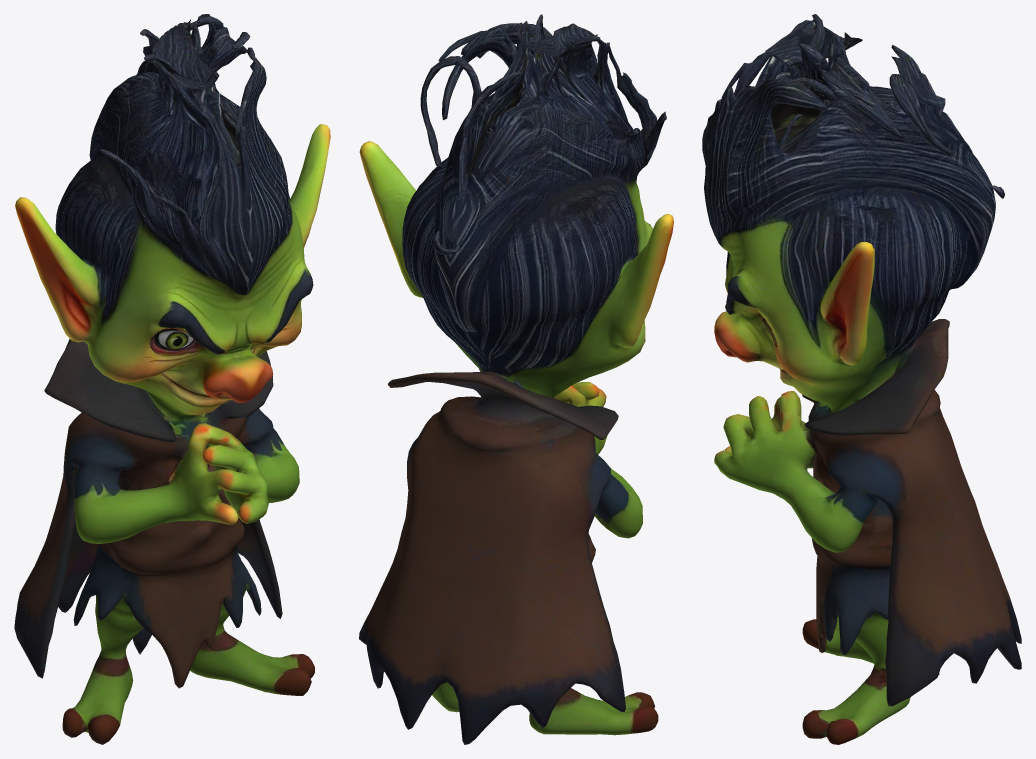
The model's file is gremlinv01.glb.
3 renders of one model, left to right at view 1: azimuth 30°, elevation 25°; view 2: azimuth 150°, elevation 25°; view 3: azimuth 270°, elevation 25°, orthographic. The views are drawn at different scales.
Visible parts, largest first — view 1: Mesh_0.001; view 2: Mesh_0.001; view 3: Mesh_0.001.
Part boxes in pixels (<box>): Mesh_0.001: <box>14,14,330,744</box>; Mesh_0.001: <box>359,14,673,744</box>; Mesh_0.001: <box>702,14,1021,744</box>.
Size of the model in its own units: 0.4774 by 1 by 0.4365.
Materials: 1 (1 with a texture image).
